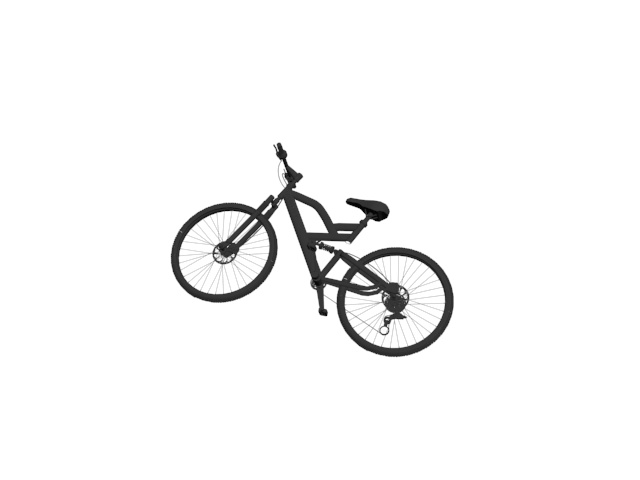bike: (169, 137, 456, 360)
